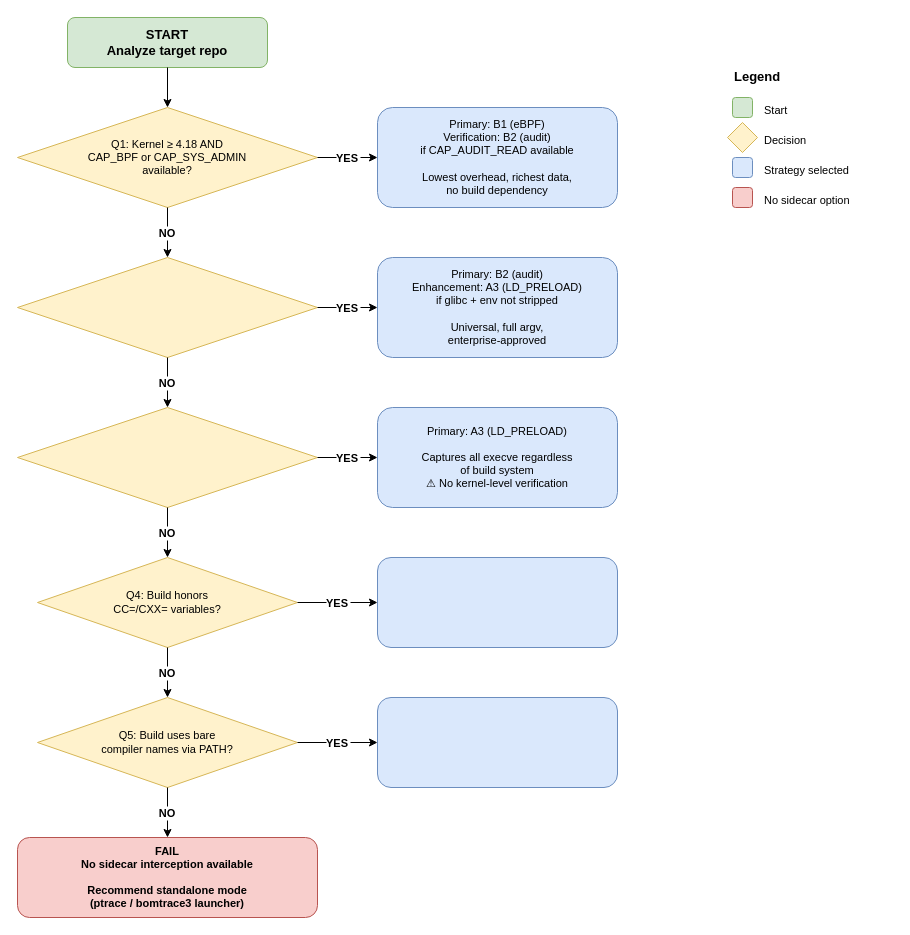
Image size: 910x935. Some labels were removed from this diagram. The centre of each missing label's shape, as x and y in pixels:
"Primary: A1 (PATH prepend) ⚠ Brittle — absolute paths bypass this entirely" goes at pixel 497 742.
"Primary: A2 (CC=/CXX=) Works for Make/CMake/Meson ⚠ Misses ld, ar, etc." goes at pixel 497 602.
"Q2: Audit subsystem available? (CAP_AUDIT_CONTROL or pre-configured rule)" goes at pixel 167 307.
"Q3: Build tools dynamically linked (glibc) AND env not stripped?" goes at pixel 167 457.
